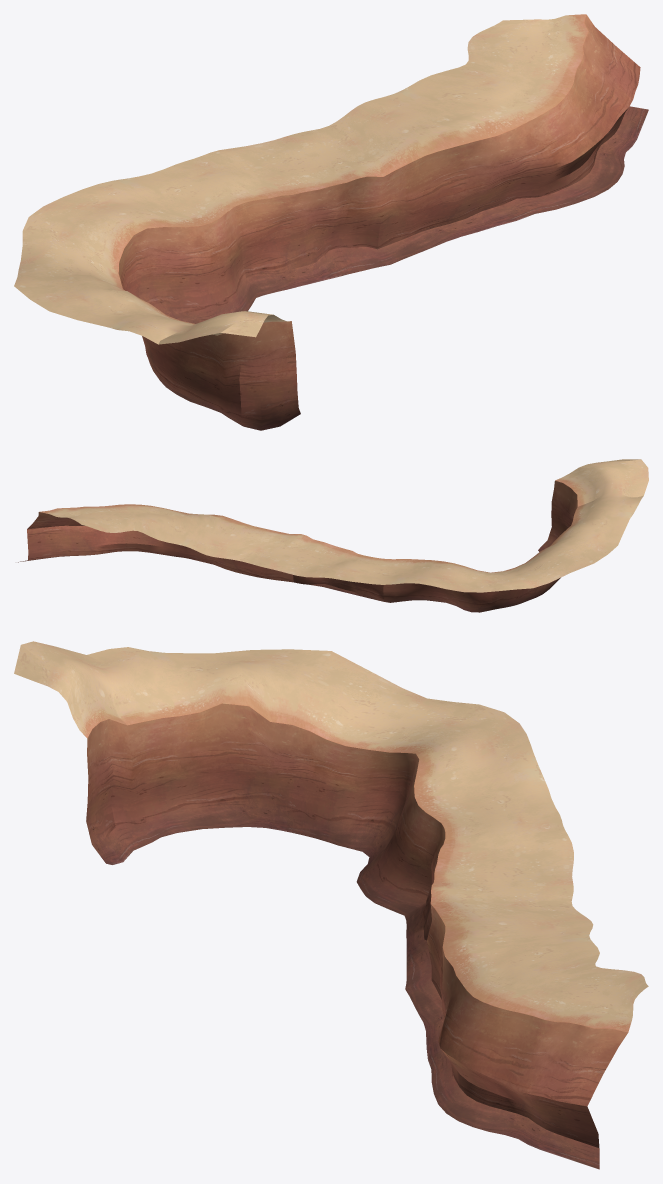
File: cliff_start.fbx
3 renders of one model, top to bottom at view 1: azimuth 30°, elevation 25°; view 2: azimuth 150°, elevation 25°; view 3: azimuth 270°, elevation 25°, orthographic. The views are drawn at different scales.
Visible parts, largest first — view 1: cliff start; view 2: cliff start; view 3: cliff start.
Boxes of the visible parts, <box> form: cliff start: <box>14,14,648,430</box>; cliff start: <box>18,459,648,612</box>; cliff start: <box>14,641,648,1169</box>.
Size of the model in its own units: 10893 by 2096 by 7077.
